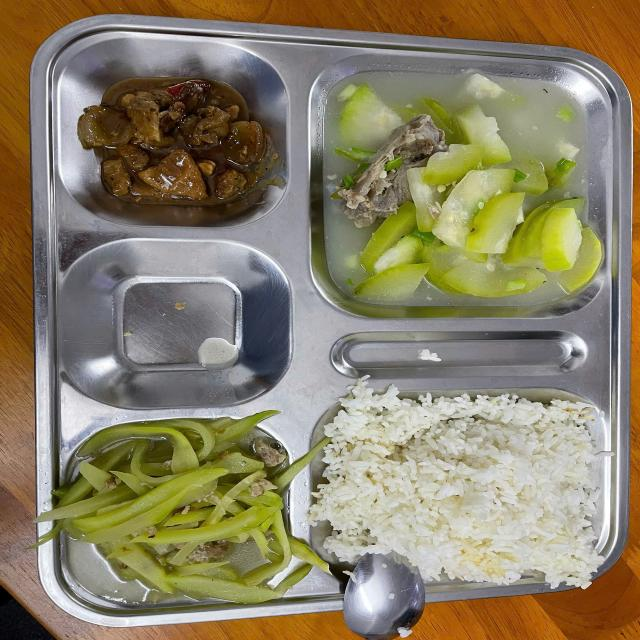canhbau: (322, 73, 604, 309)
salad: (338, 401, 593, 564)
suon: (52, 420, 299, 606)
teprim: (78, 69, 273, 208)
